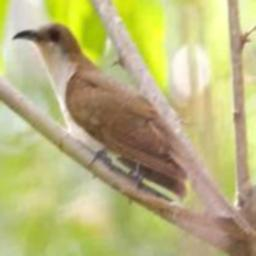Cuckoo: (7, 21, 187, 203)
